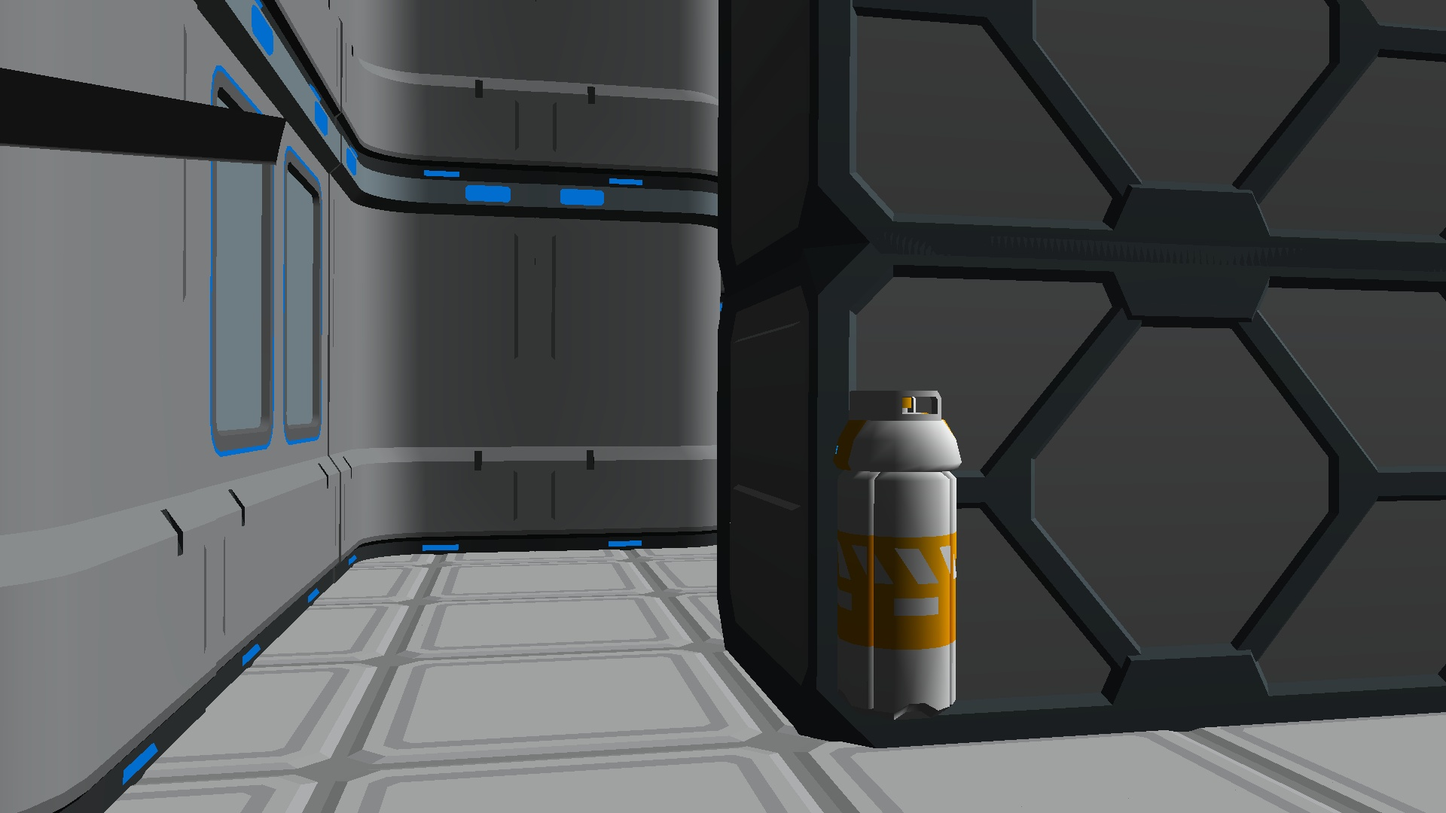yellow barrel: (833, 390, 962, 719)
